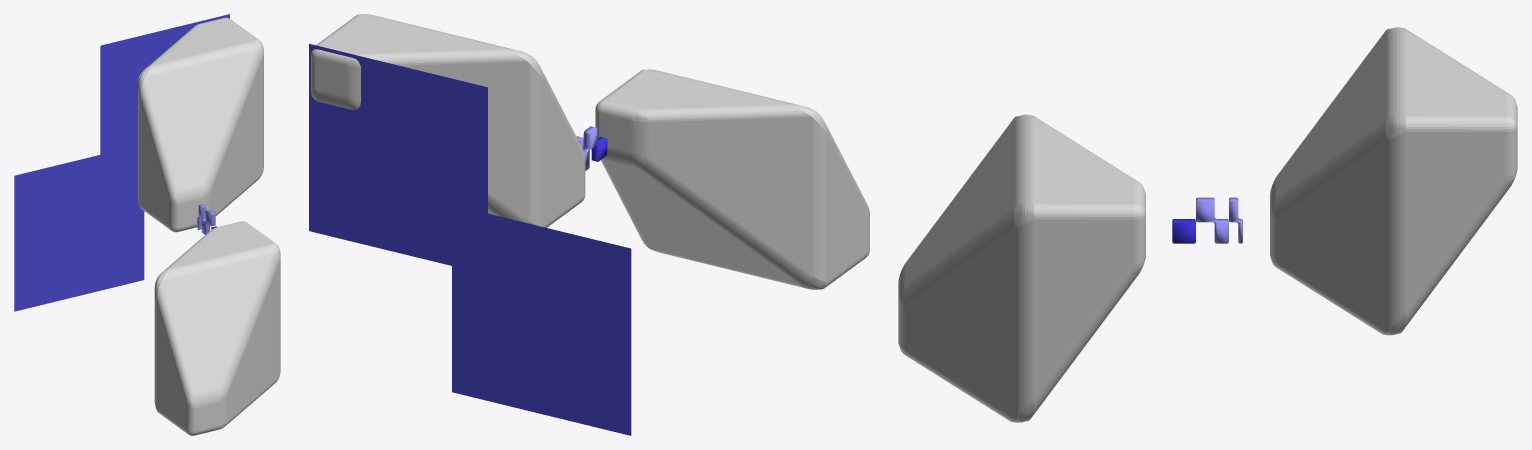
File: banner_box.glb
3 renders of one model, left to right at view 1: azimuth 30°, elevation 25°; view 2: azimuth 150°, elevation 25°; view 3: azimuth 270°, elevation 25°, orthographic. The views are drawn at different scales.
Parts seen in each view (by area): view 1: 容器.001, 容器, 主元素.001, 主元素, Curve.001; view 2: 容器.001, 主元素.001, 主元素, 容器; view 3: 容器, 容器.001, Curve.001, Curve.002.
Boxes of the visible parts, x1=… form: 容器.001: x1=154, y1=221, x2=280, y2=435; 容器: x1=138, y1=17, x2=263, y2=232; 主元素.001: x1=14, y1=145, x2=144, y2=311; 主元素: x1=100, y1=14, x2=229, y2=154; Curve.001: x1=201, y1=209, x2=215, y2=234; 容器.001: x1=595, y1=69, x2=869, y2=289; 主元素.001: x1=452, y1=213, x2=631, y2=435; 主元素: x1=309, y1=43, x2=487, y2=274; 容器: x1=311, y1=14, x2=585, y2=227; 容器: x1=1270, y1=27, x2=1517, y2=335; 容器.001: x1=898, y1=114, x2=1145, y2=422; Curve.001: x1=1196, y1=197, x2=1228, y2=243; Curve.002: x1=1172, y1=219, x2=1195, y2=243.
Size of what is drawn, in the model's own units: 3.46 by 3.48 by 4.96.
